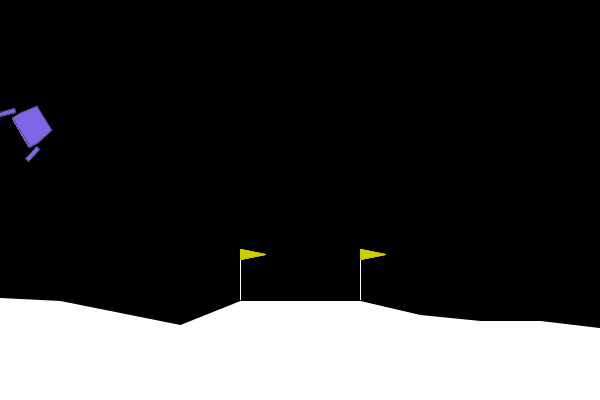lander: (0, 92, 61, 164)
